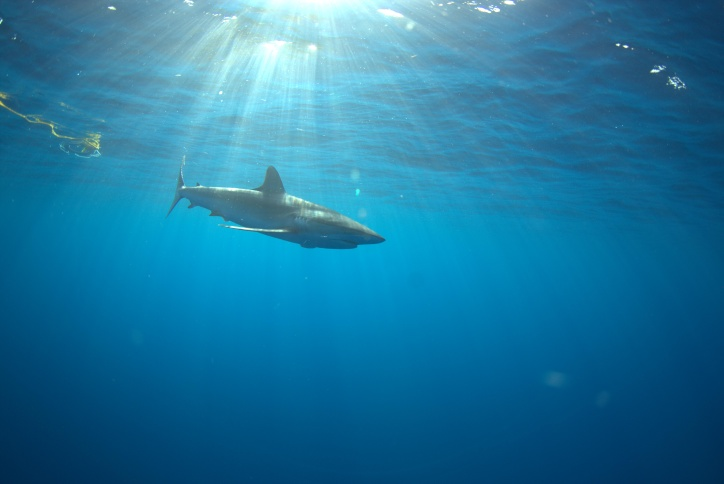Sedoso: (154, 155, 406, 271)
